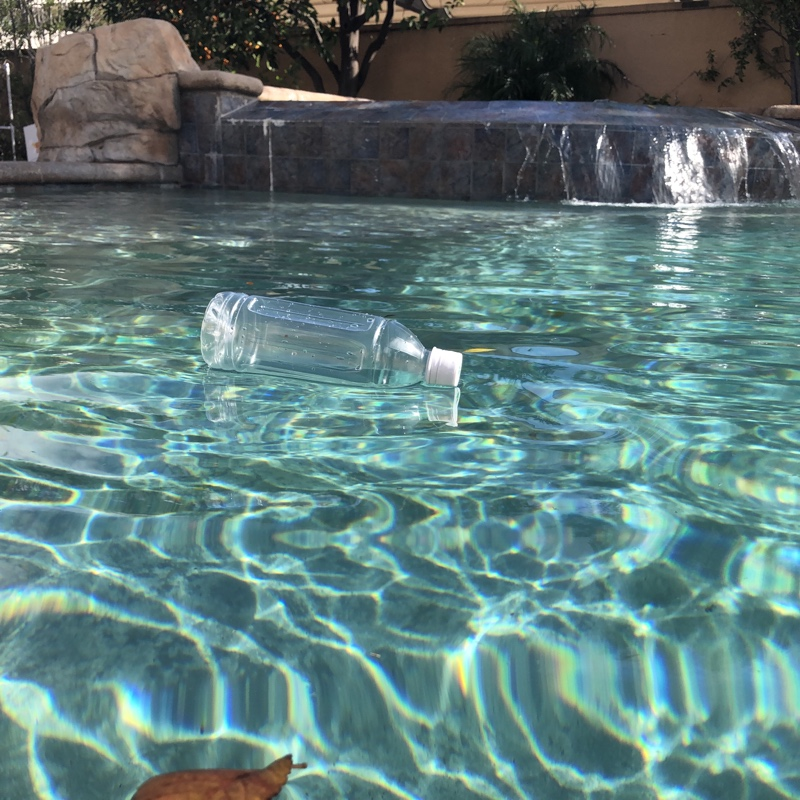Plastic Bottle: (193, 283, 464, 403)
